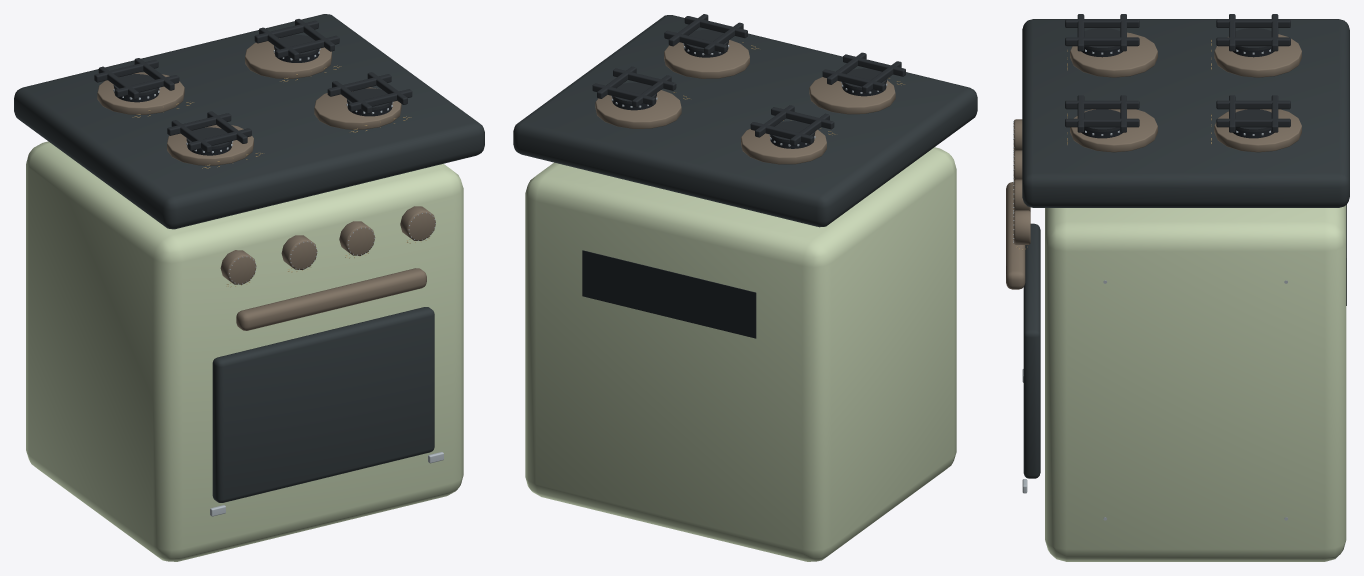
Rendered from range-oven.glb.
3 renders of one model, left to right at view 1: azimuth 30°, elevation 25°; view 2: azimuth 150°, elevation 25°; view 3: azimuth 270°, elevation 25°, orthographic. The views are drawn at different scales.
Visible parts, largest first — view 1: catalog_surface_RealismUV, catalog_surface_UVMap; view 2: catalog_surface_RealismUV, catalog_surface_UVMap; view 3: catalog_surface_RealismUV, catalog_surface_UVMap.
Boxes of the visible parts, x1,y1,x2,y2 form: catalog_surface_RealismUV: (26, 19, 463, 561); catalog_surface_UVMap: (14, 14, 484, 502); catalog_surface_RealismUV: (525, 14, 956, 561); catalog_surface_UVMap: (513, 15, 977, 227); catalog_surface_RealismUV: (1006, 14, 1346, 561); catalog_surface_UVMap: (1022, 19, 1349, 478).
Bounding box in the file's own units: 0.76 × 0.92 × 0.68.
